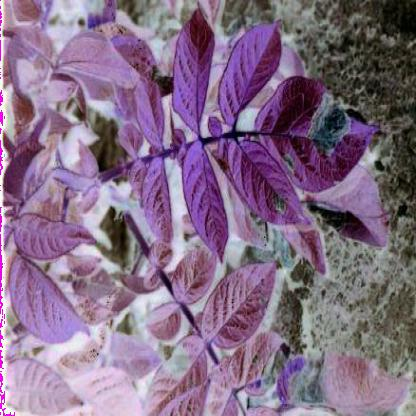Potato leaf late blight: (255, 77, 378, 201), (274, 340, 413, 415)
